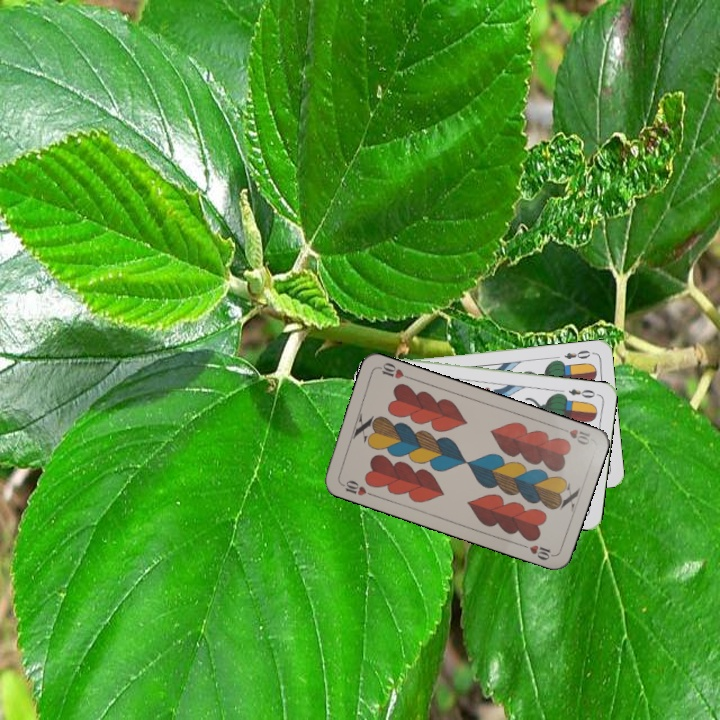EO: (565, 384, 601, 401), (560, 346, 596, 362)
H10: (555, 423, 593, 448), (337, 476, 376, 499)
